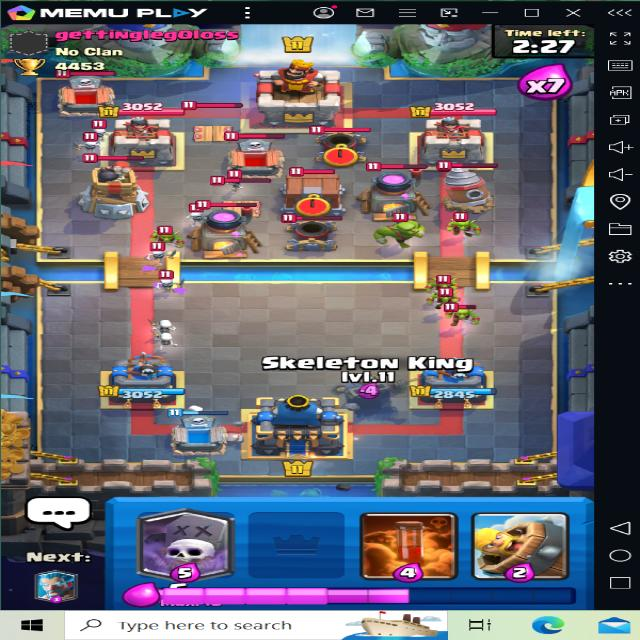bomb-tower: (78, 150, 147, 220)
brawler: (368, 215, 427, 251)
furnace: (189, 197, 265, 257), (359, 161, 434, 219)
goblin: (444, 209, 480, 238), (446, 298, 480, 326), (152, 224, 188, 249), (429, 270, 460, 292), (430, 288, 461, 307)
goblin-cage: (282, 165, 346, 212)
goblin-drill: (433, 158, 502, 212)
mortar: (272, 206, 347, 253), (303, 121, 372, 165)
skeleton: (151, 270, 189, 292), (134, 240, 174, 260), (219, 171, 249, 196), (180, 203, 211, 225), (74, 132, 104, 154), (81, 120, 112, 137)
tesla-closed: (176, 94, 243, 144), (212, 176, 272, 218)
tombstone: (48, 69, 116, 116), (223, 132, 285, 177)
